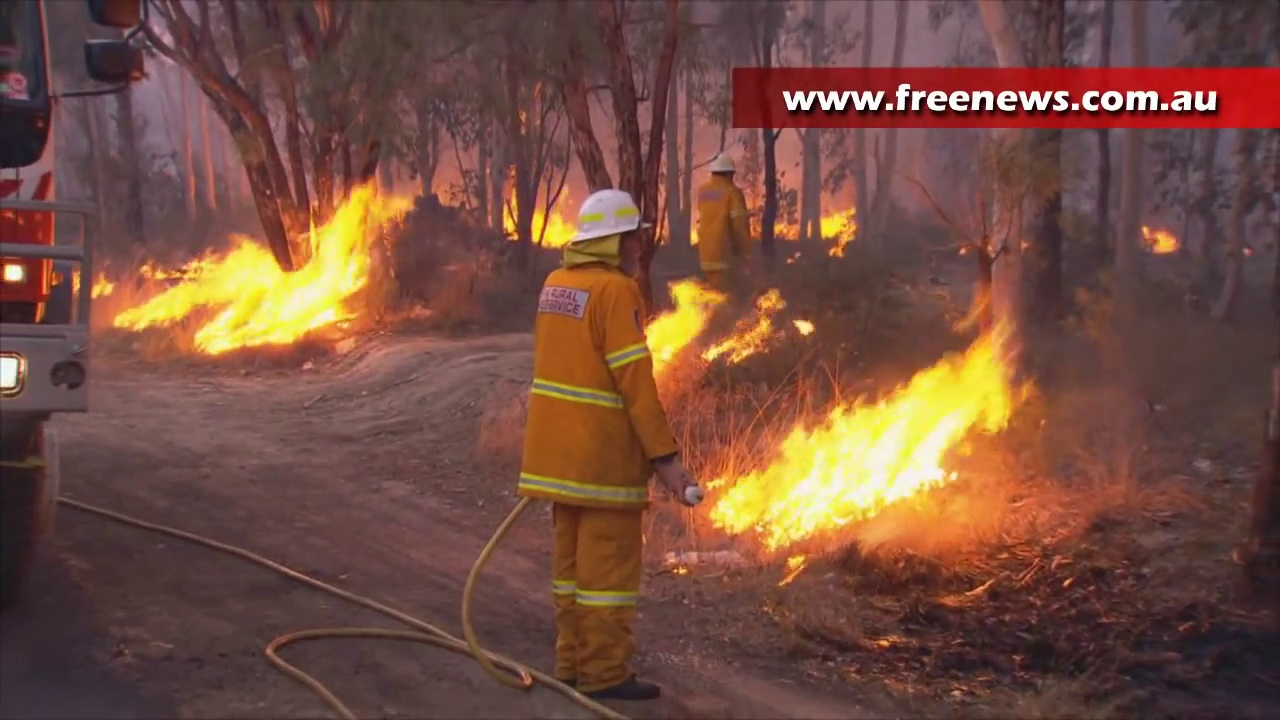fire: (712, 336, 1008, 543), (109, 187, 389, 347), (648, 284, 705, 348), (731, 316, 775, 353), (819, 210, 857, 240), (539, 210, 569, 248), (1144, 225, 1176, 252)
